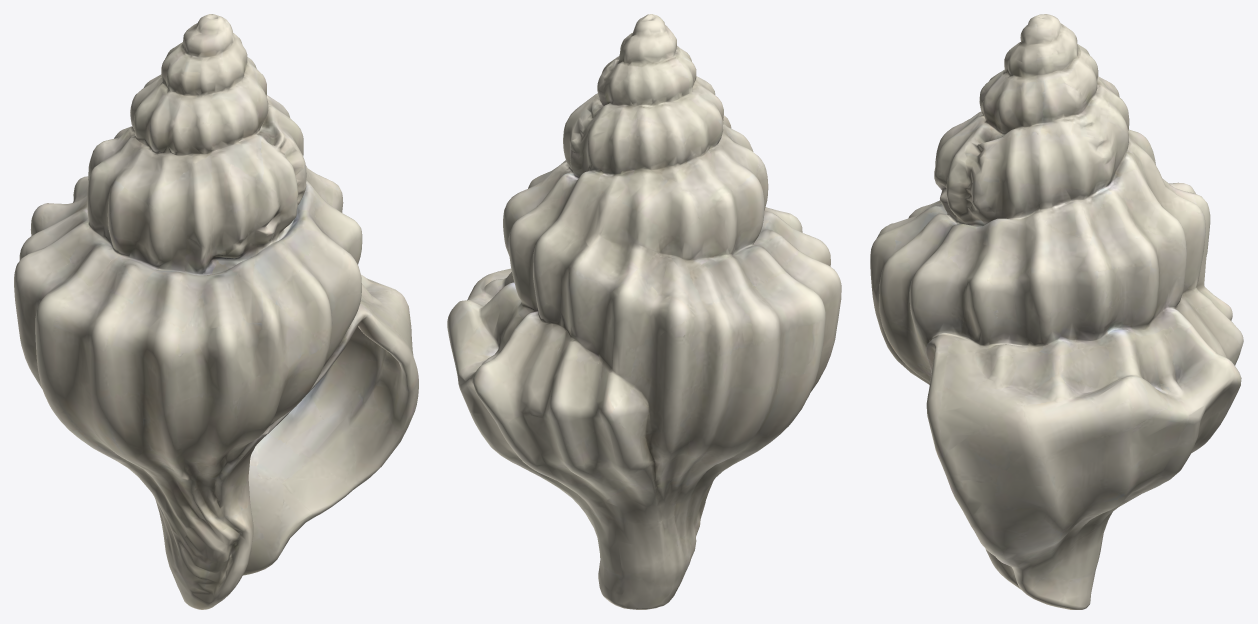
The picture shows the model from 3 angles, left to right: view 1: azimuth 30°, elevation 25°; view 2: azimuth 150°, elevation 25°; view 3: azimuth 270°, elevation 25°; orthographic projection.
Bounding box in the file's own units: 1.22 × 1.9 × 1.09.
1 material, 1 textured.
